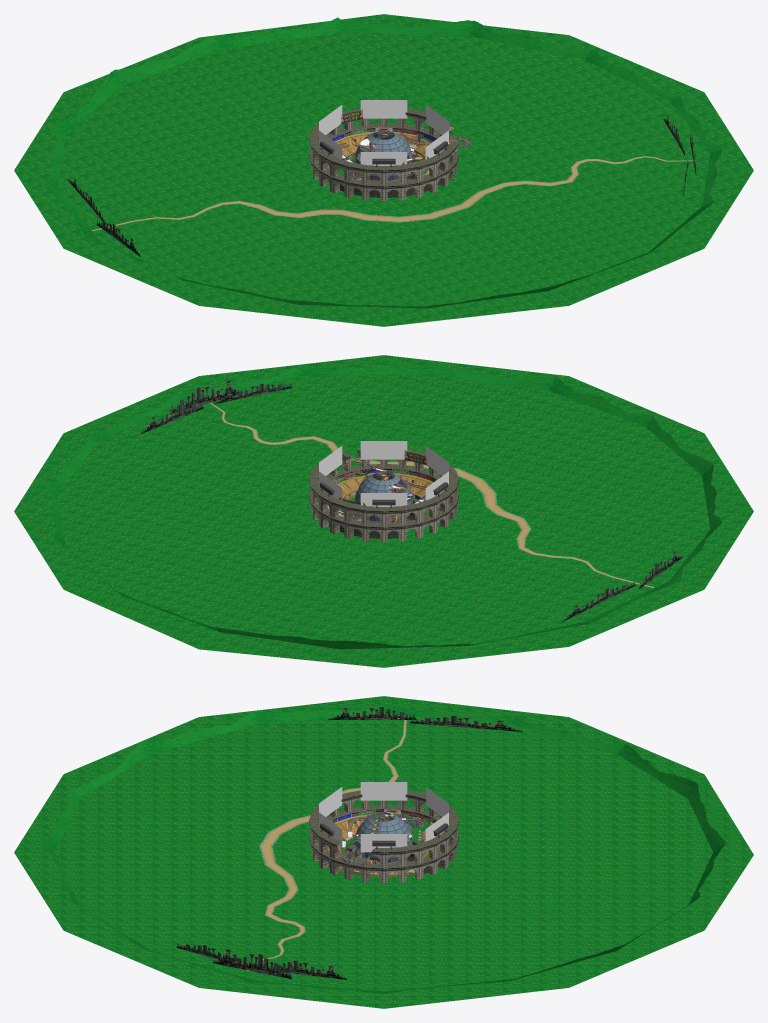
File: wario_course.dae
The picture shows the model from 3 angles, top to bottom: view 1: azimuth 30°, elevation 25°; view 2: azimuth 150°, elevation 25°; view 3: azimuth 270°, elevation 25°; orthographic projection.
Parts seen in each view (by area): view 1: n10b10, n2b9, n8b12, n15b7, n9b15, n3b11; view 2: n10b10, n2b9, n8b12, n15b7, n9b15, n3b11; view 3: n10b10, n2b9, n8b12, n15b7, n9b15, n3b11.
Boxes of the visible parts, <box> form: n10b10: <box>14,14,753,326</box>; n2b9: <box>45,17,722,308</box>; n8b12: <box>309,108,458,201</box>; n15b7: <box>319,100,448,165</box>; n9b15: <box>355,131,413,180</box>; n3b11: <box>334,132,438,175</box>; n10b10: <box>14,355,753,667</box>; n2b9: <box>45,361,722,649</box>; n8b12: <box>309,449,458,542</box>; n15b7: <box>319,441,448,512</box>; n9b15: <box>354,472,412,521</box>; n3b11: <box>327,472,440,516</box>; n10b10: <box>14,696,753,1008</box>; n2b9: <box>42,705,725,993</box>; n8b12: <box>309,790,458,883</box>; n15b7: <box>319,782,448,852</box>; n9b15: <box>355,813,412,862</box>; n3b11: <box>327,815,440,876</box>.
Bounding box in the file's own units: 252834 × 43800 × 252834.
